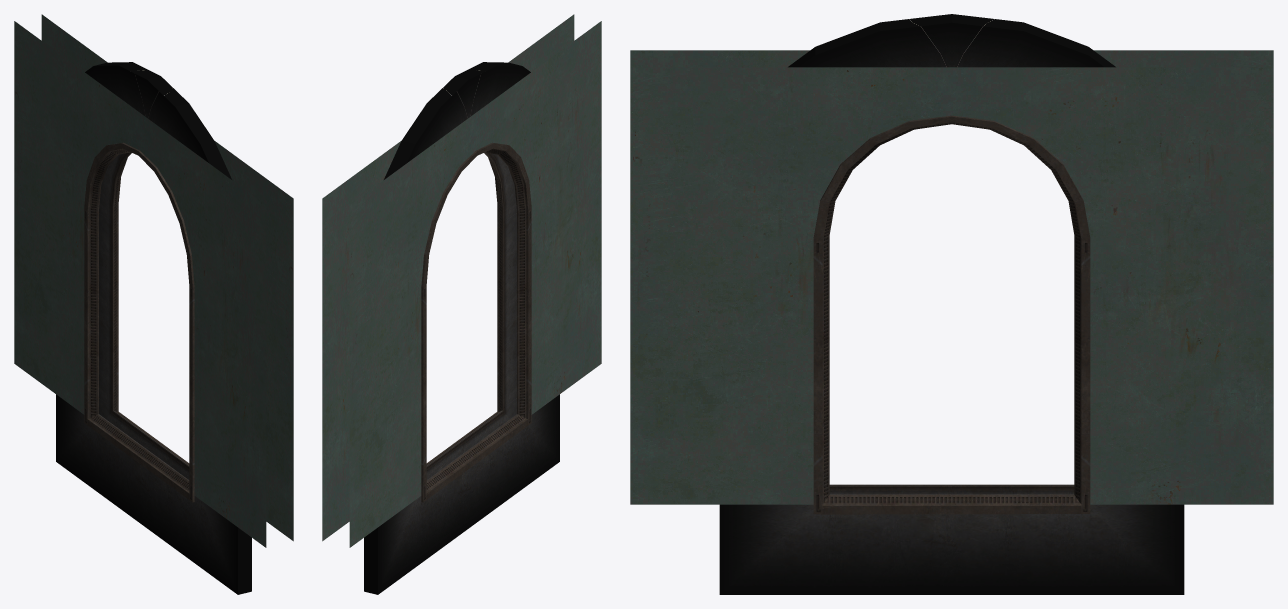
Rendered from tau_tunnel_door_small_frame.dae.
3 renders of one model, left to right at view 1: azimuth 30°, elevation 25°; view 2: azimuth 150°, elevation 25°; view 3: azimuth 270°, elevation 25°, orthographic. The views are drawn at different scales.
Parts seen in each view (by area): view 1: polySurface461, polySurface460; view 2: polySurface461, polySurface460; view 3: polySurface461, polySurface460.
Part boxes in pixels (<box>): polySurface461: <box>14,14,293,547</box>; polySurface460: <box>56,62,251,594</box>; polySurface461: <box>322,14,601,547</box>; polySurface460: <box>364,62,559,594</box>; polySurface461: <box>630,50,1273,504</box>; polySurface460: <box>719,14,1184,594</box>.
Bounding box in the file's own units: 0.2837 × 3.93 × 4.
